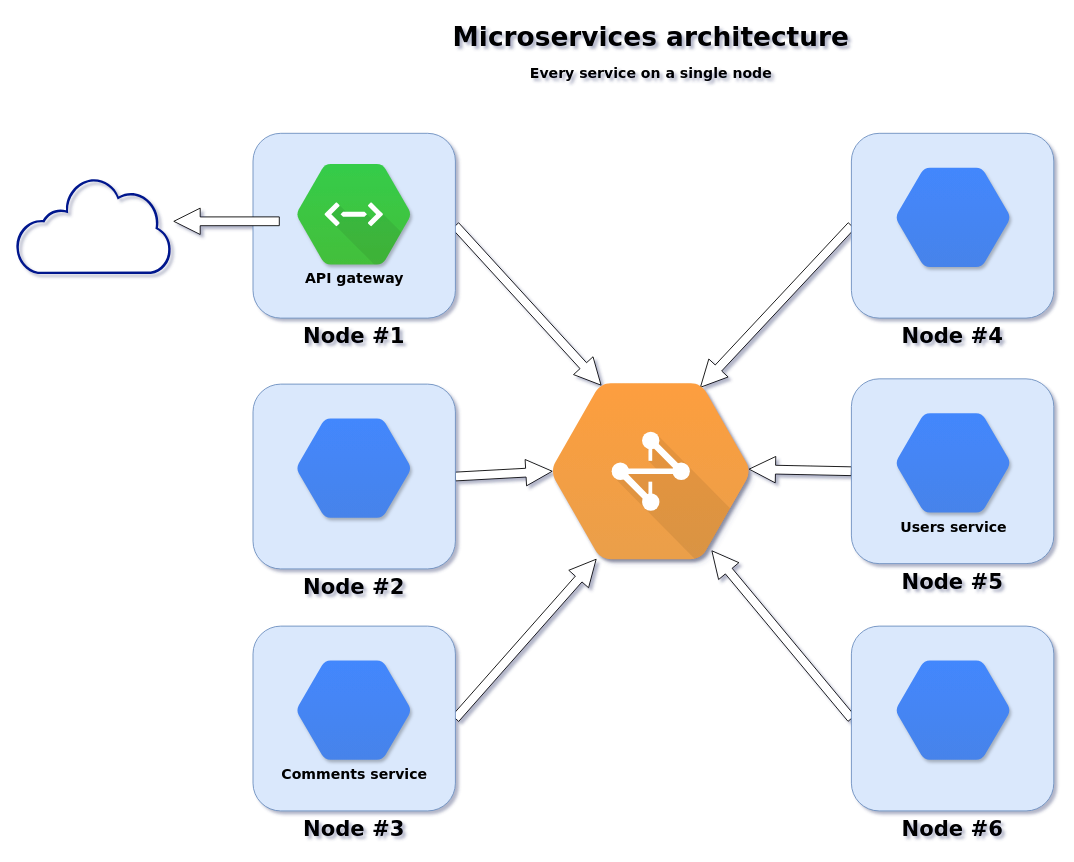
Some shapes in this 1074 by 862 pixel diagram are drawn without their labels. Here are the shapes that lost their labels. From the top down, the centre of each, then its label:
(953,218): Posts service
(354,469): Notification service
(651,472): Transporter Node #7
(953,711): Mailer service
